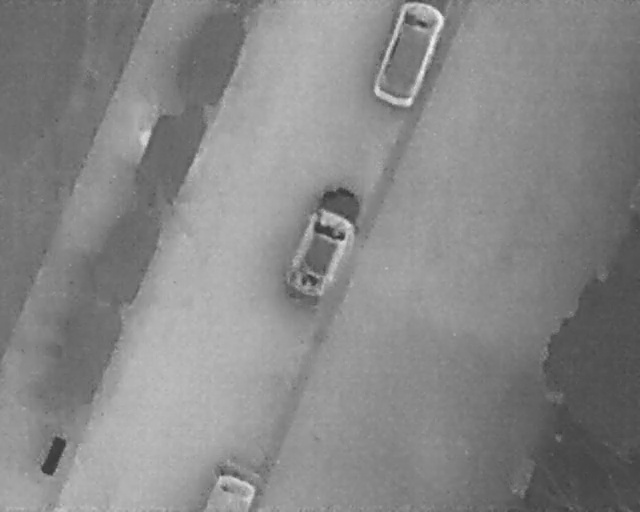Car: (276, 176, 375, 313), (366, 0, 450, 113), (200, 460, 262, 510)
